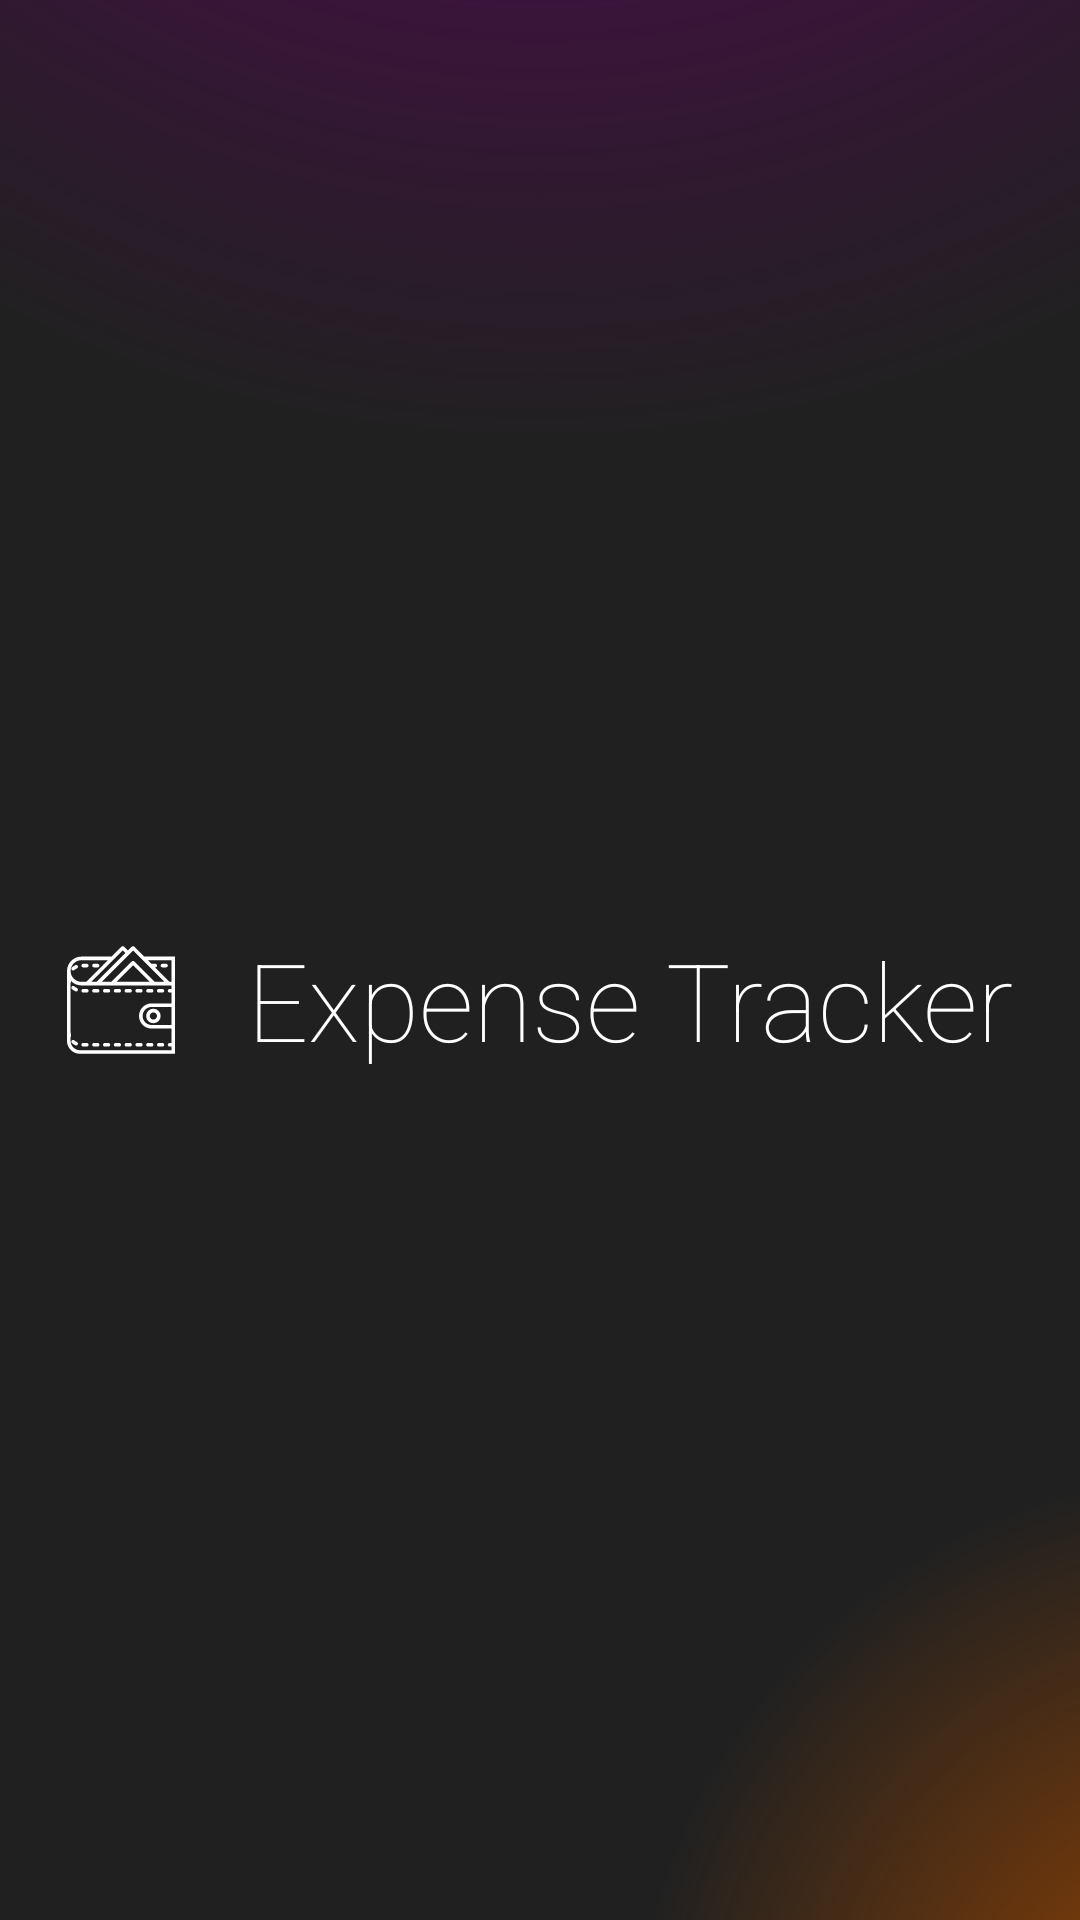

Named icons in this screenshot (1080*1920) and their centers, point (x, y):
wallet: point (121, 1000)
